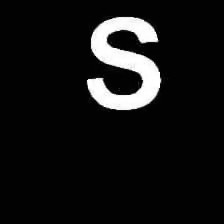LTR_S: (84, 10, 164, 115)
